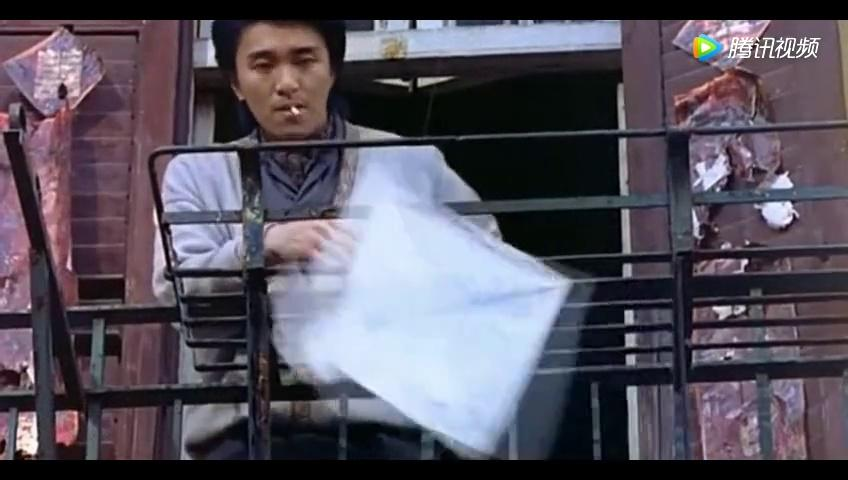smoke: (284, 99, 303, 120)
